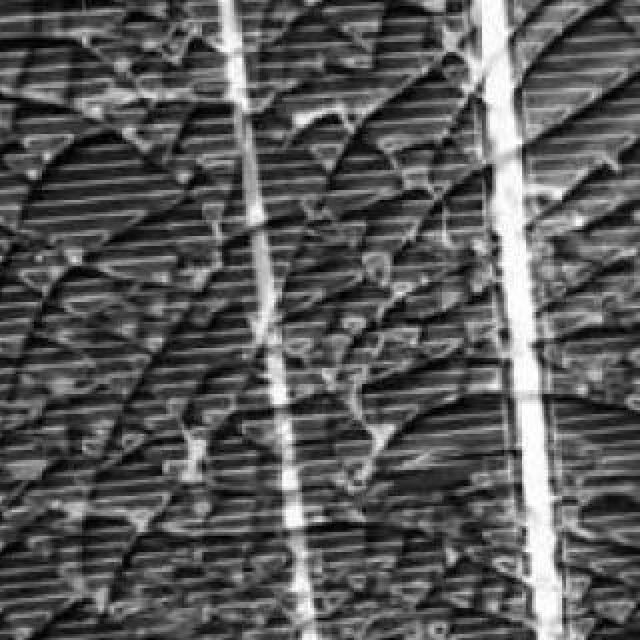Physical-damage: (11, 9, 609, 610)
